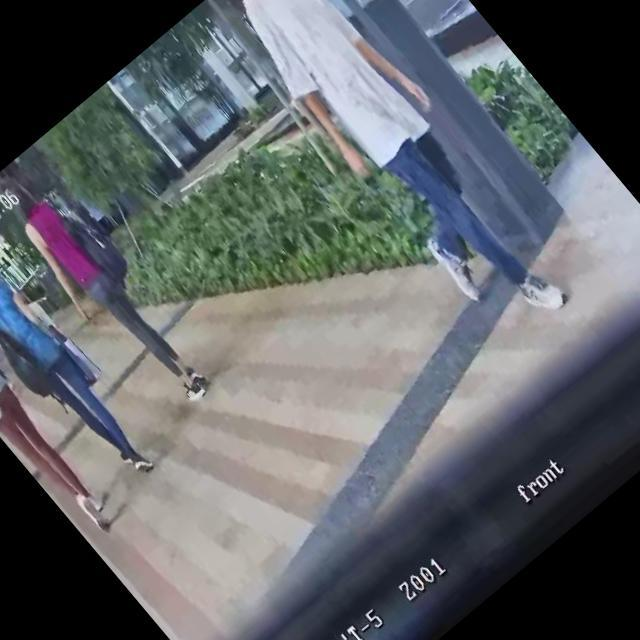person: (207, 0, 589, 355), (0, 164, 212, 422), (0, 232, 169, 498), (0, 269, 126, 544)
